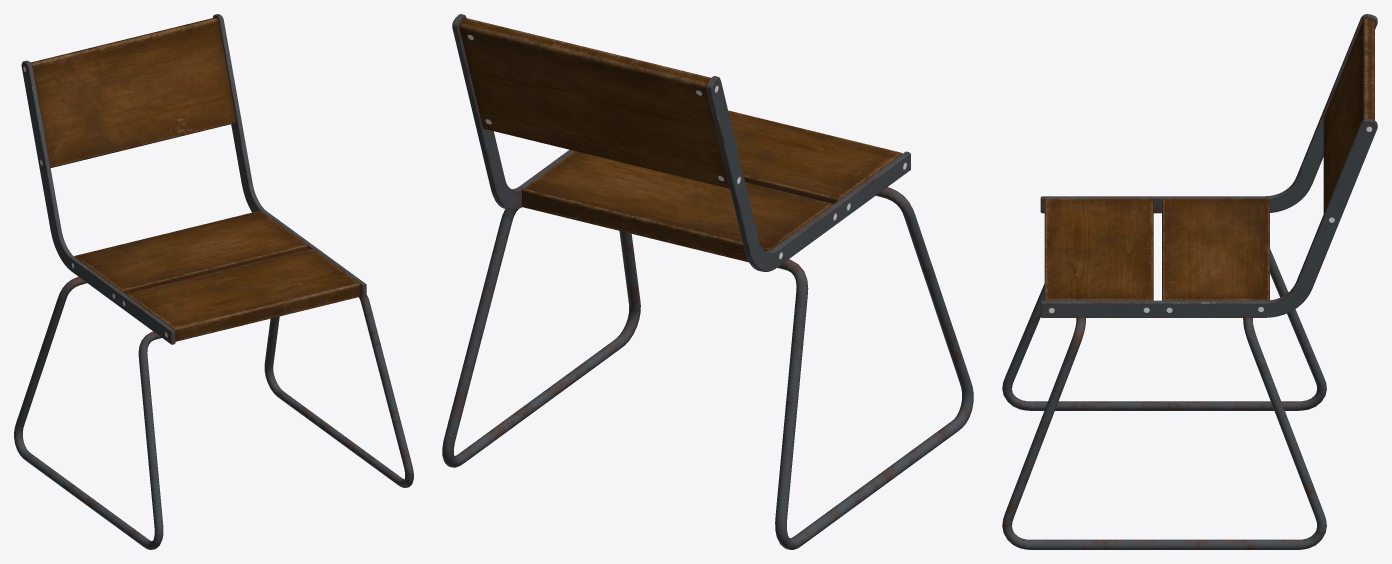
Rendered from old_chair_low-poly-opt.glb.
3 views of the same model, side by side, from view 1: azimuth 30°, elevation 25°; view 2: azimuth 150°, elevation 25°; view 3: azimuth 270°, elevation 25° (orthographic). The views are drawn at different scales.
Parts seen in each view (by area): view 1: chair_chair_0; view 2: chair_chair_0; view 3: chair_chair_0.
Boxes of the visible parts, x1,y1,x2,y2 form: chair_chair_0: (14, 14, 413, 549); chair_chair_0: (442, 14, 973, 549); chair_chair_0: (1002, 14, 1377, 549).
Size of the model in its own units: 0.4026 by 0.5428 by 0.4473.
Materials: 1 (1 with a texture image).
